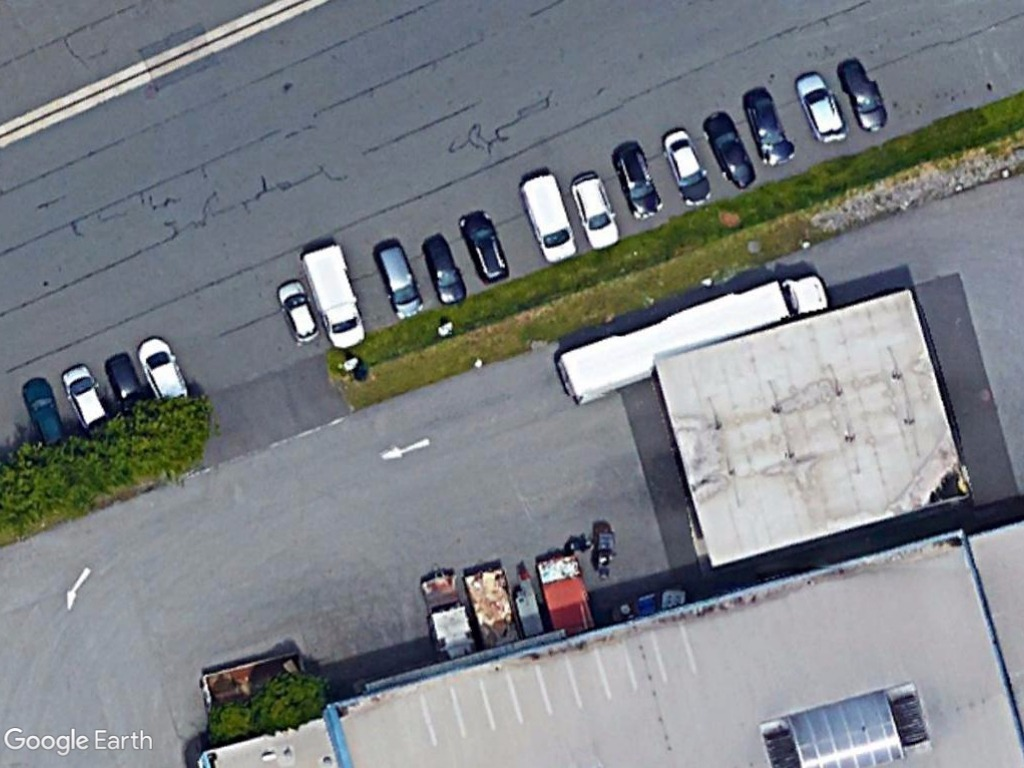car: (606, 135, 667, 226), (658, 124, 718, 213), (698, 106, 759, 192), (737, 83, 797, 170), (791, 65, 850, 148), (452, 204, 511, 286), (132, 331, 194, 407), (372, 239, 428, 321), (568, 169, 620, 252), (59, 359, 113, 430), (18, 373, 68, 449), (417, 230, 467, 305), (274, 274, 322, 350)
longvehicle: (553, 270, 829, 408)
truck: (297, 239, 368, 353)
van: (517, 166, 579, 265)
